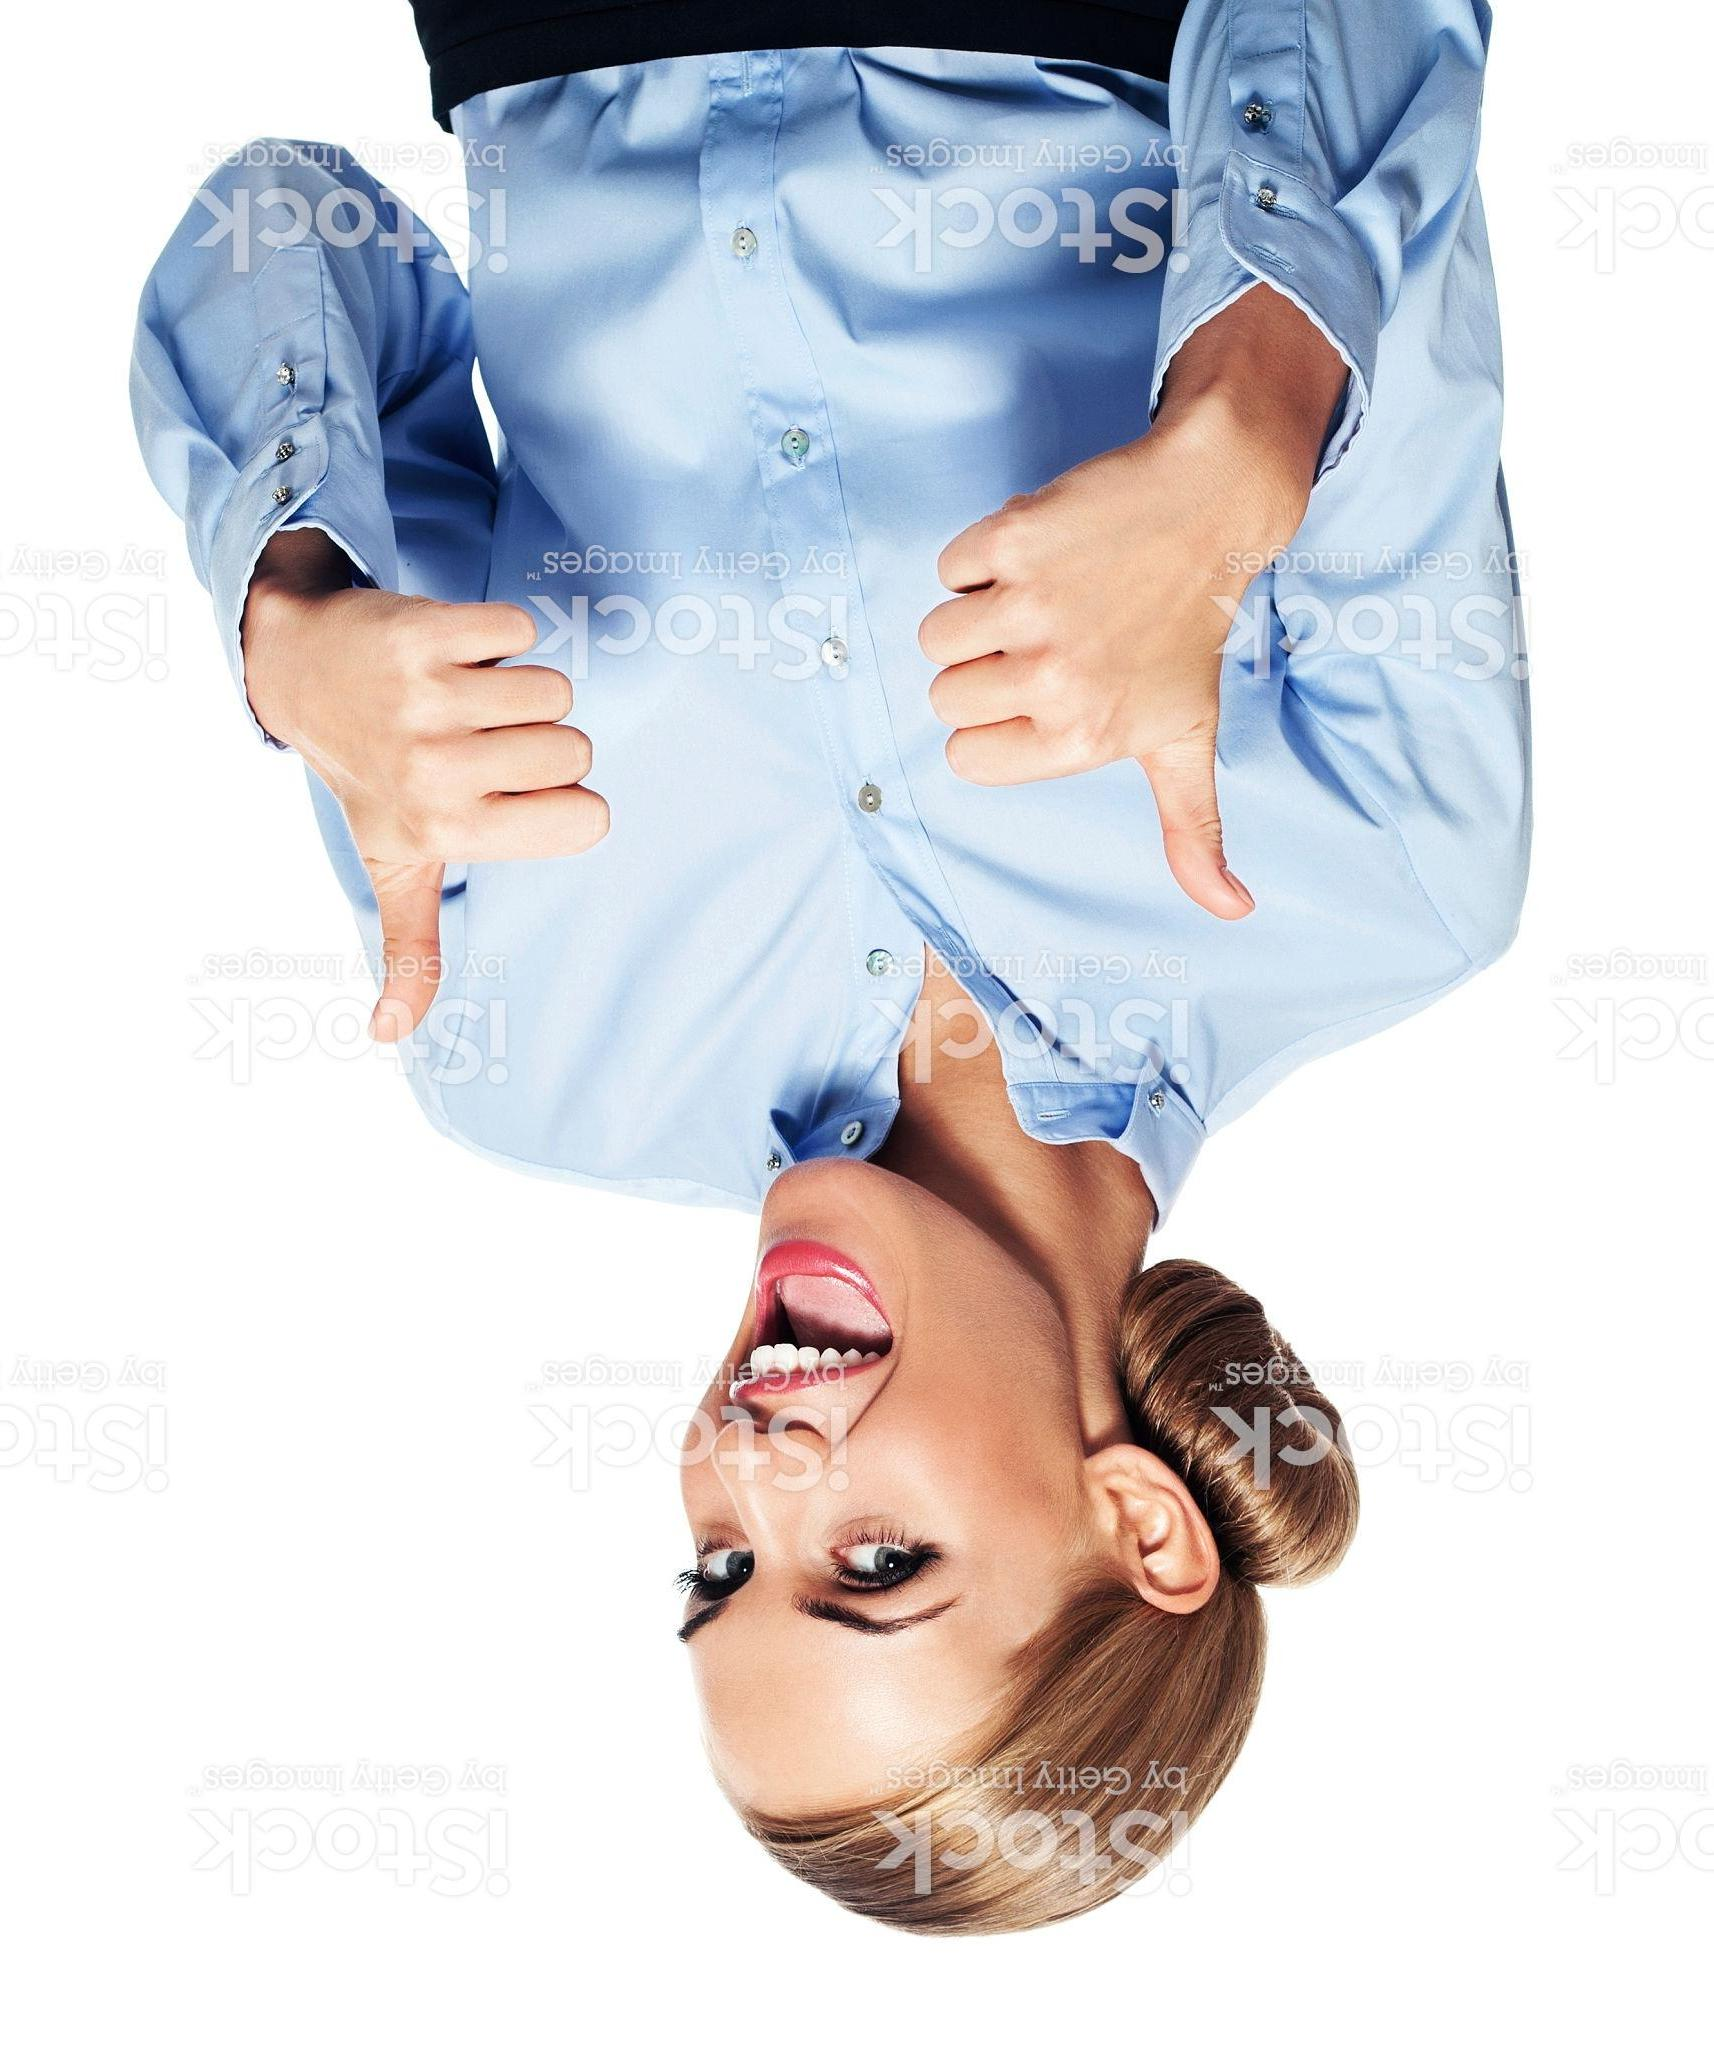thumbsdown: (915, 439, 1258, 925), (311, 580, 619, 1048)
